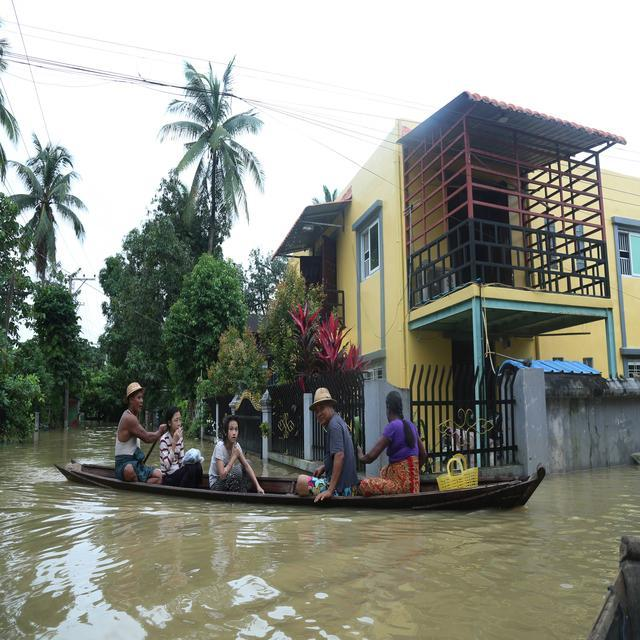Person-RiskLevel3: (348, 386, 441, 501), (290, 383, 364, 505), (106, 377, 164, 484), (214, 413, 274, 500), (160, 406, 208, 500)
